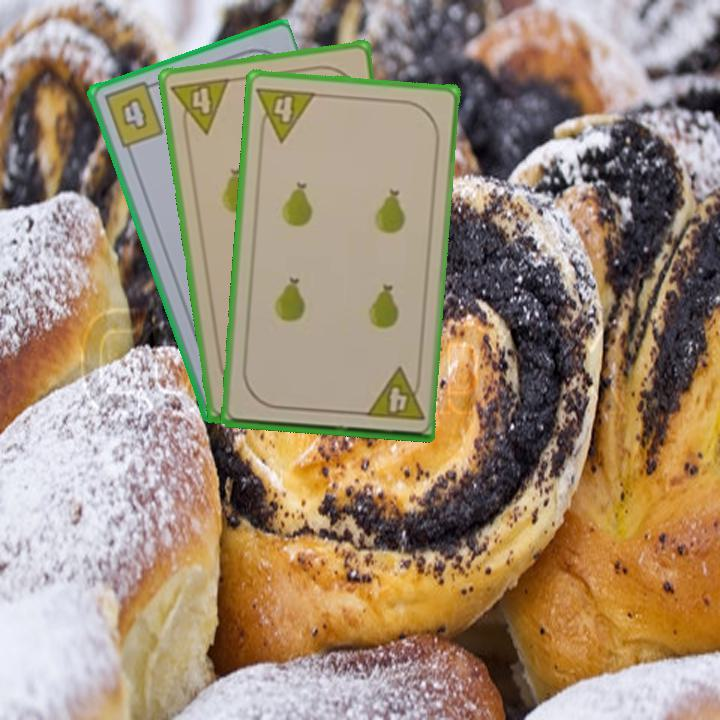4b: (100, 77, 167, 151)
4p: (168, 74, 233, 139), (253, 83, 319, 145), (361, 365, 427, 424)
